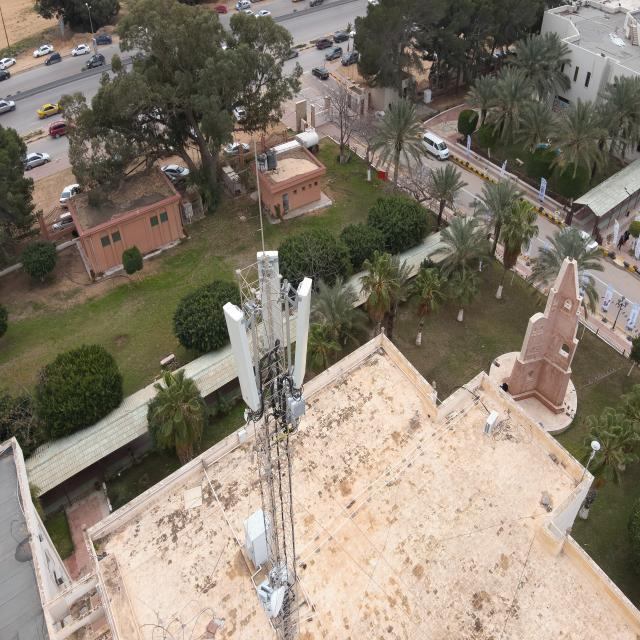antenna: (222, 301, 260, 413), (255, 251, 283, 353), (292, 276, 313, 391)
lighnig-rad: (252, 130, 268, 261)
microware-dish: (259, 584, 287, 619)
power-box: (255, 576, 272, 620)
radio-unit: (274, 374, 306, 420)
